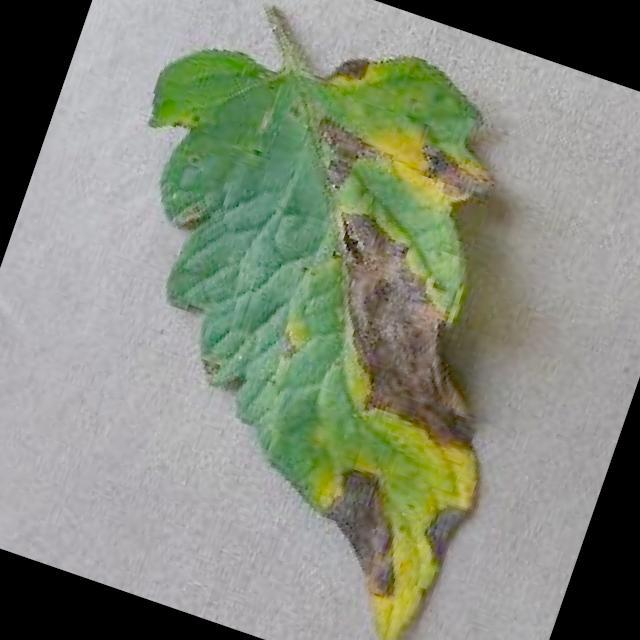Tomato Early blight leaf: (8, 0, 614, 640)
